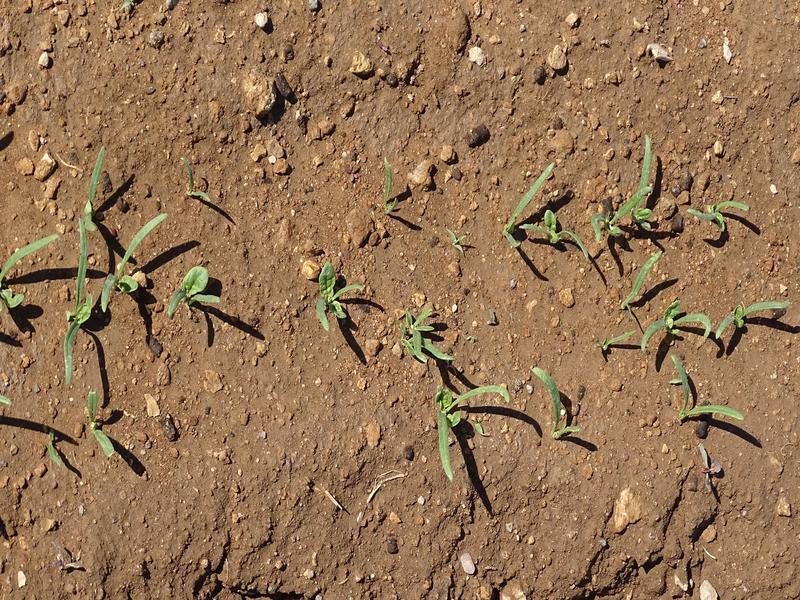Espinaca: (502, 147, 790, 353), (64, 156, 216, 387), (428, 375, 504, 472), (665, 355, 747, 427), (526, 359, 583, 440), (1, 231, 60, 302), (312, 256, 362, 330), (393, 307, 445, 365), (76, 392, 117, 458)
